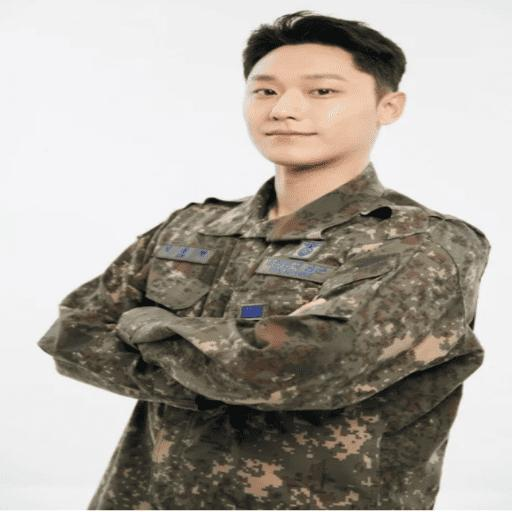korea army: (37, 10, 491, 509)
